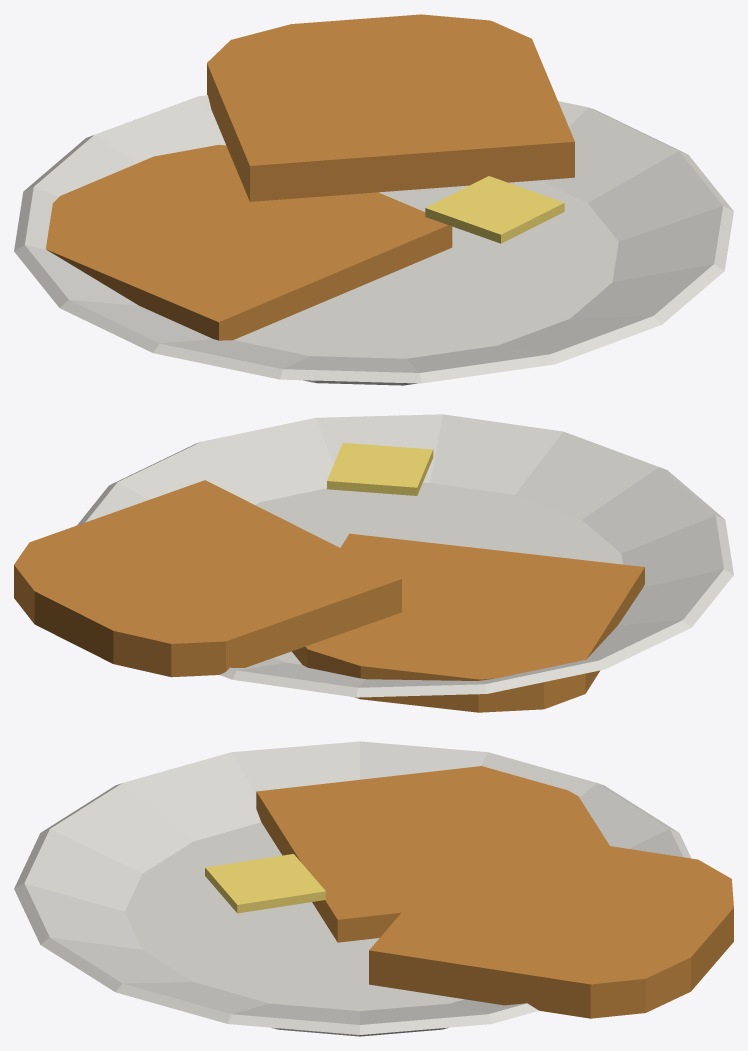
Rendered from m-toast.glb.
The picture shows the model from 3 angles, top to bottom: view 1: azimuth 30°, elevation 25°; view 2: azimuth 150°, elevation 25°; view 3: azimuth 270°, elevation 25°; orthographic projection. The views are drawn at different scales.
Visible parts, largest first — view 1: m_toast; view 2: m_toast; view 3: m_toast.
Part boxes in pixels (<box>): m_toast: <box>14,14,733,385</box>; m_toast: <box>14,414,733,712</box>; m_toast: <box>14,741,733,1036</box>.
Size of the model in its own units: 0.22 by 0.035 by 0.2289.
